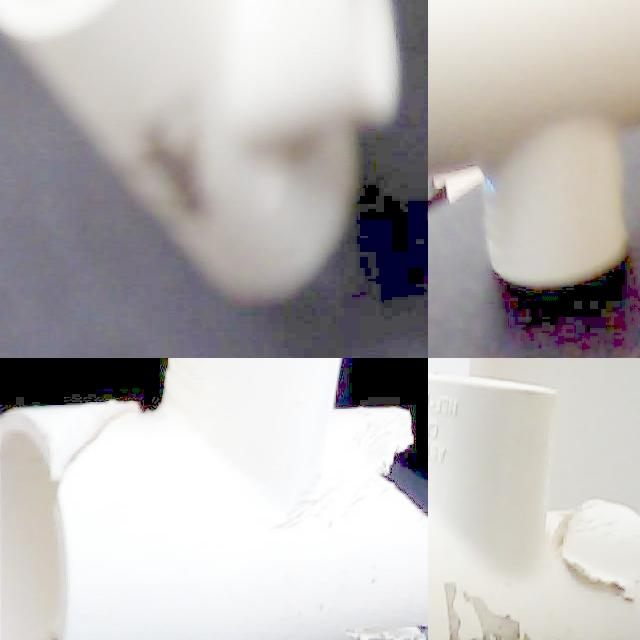Defective: (525, 499, 640, 611), (31, 394, 167, 485), (428, 561, 580, 640), (132, 97, 216, 226), (261, 450, 366, 550), (368, 403, 428, 559), (328, 599, 428, 640), (1, 619, 184, 640)
T Joint: (0, 358, 428, 640)
